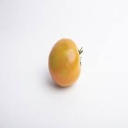tomato: (48, 36, 81, 87)
